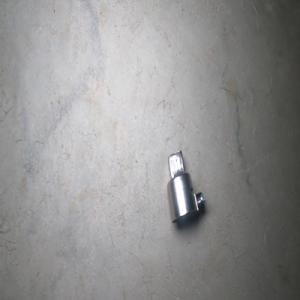MetalPart: (166, 149, 205, 223)
